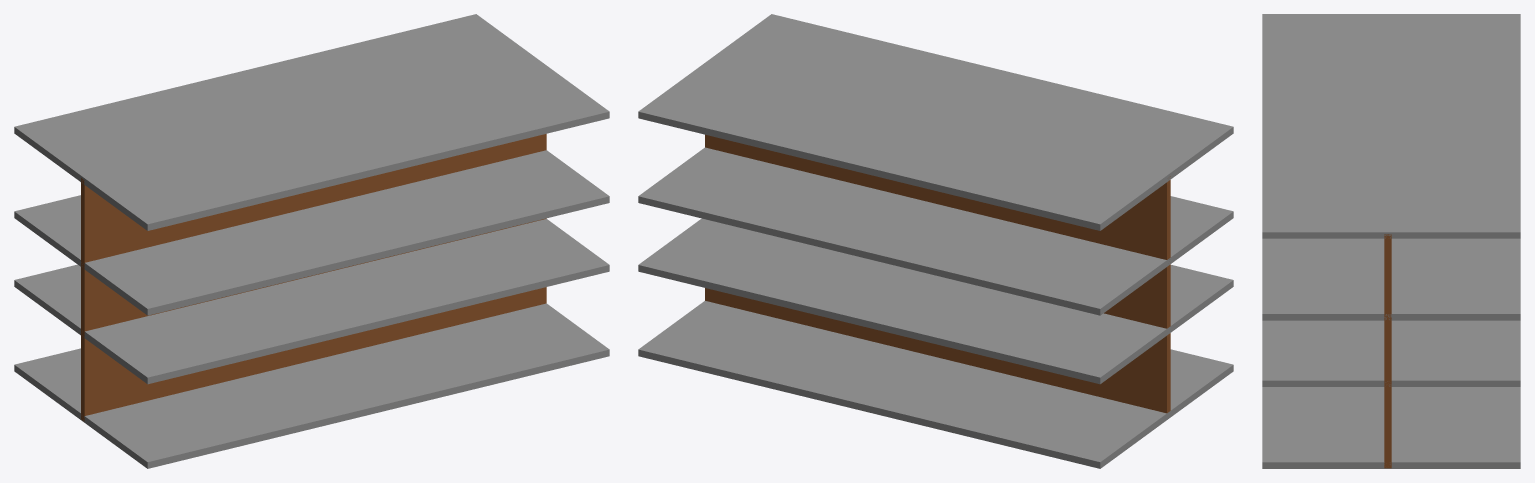
File: Shelve.fbx
3 views of the same model, side by side, from view 1: azimuth 30°, elevation 25°; view 2: azimuth 150°, elevation 25°; view 3: azimuth 270°, elevation 25° (orthographic). The views are drawn at different scales.
Visible parts, largest first — view 1: bottom_sh001, SEPARADOR; view 2: bottom_sh001, SEPARADOR; view 3: bottom_sh001, SEPARADOR.
Part boxes in pixels (<box>): bottom_sh001: <box>14,14,609,468</box>; SEPARADOR: <box>81,134,546,421</box>; bottom_sh001: <box>638,14,1233,468</box>; SEPARADOR: <box>705,134,1170,413</box>; bottom_sh001: <box>1262,14,1520,468</box>; SEPARADOR: <box>1384,234,1391,468</box>.
Bounding box in the file's own units: 40 × 20.24 × 20.
